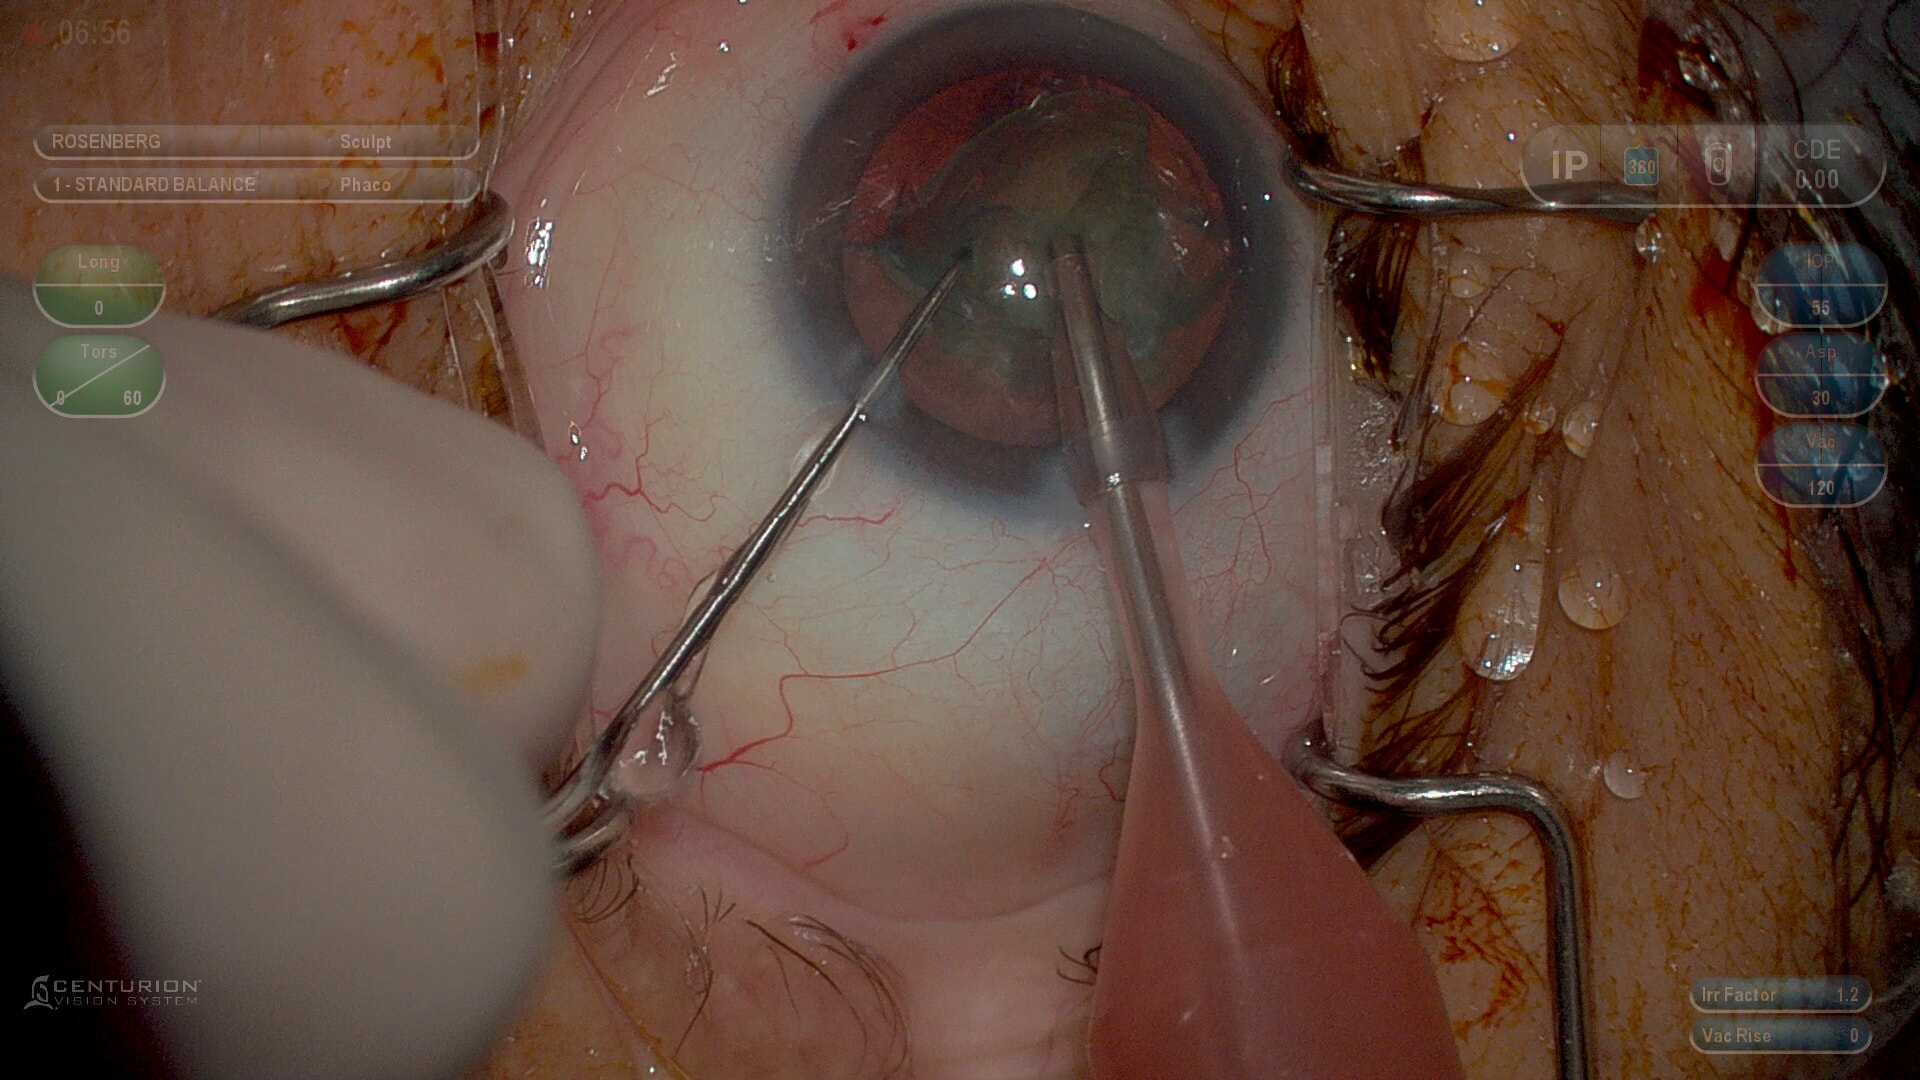iris: (793, 7, 1298, 500)
pupil: (842, 65, 1242, 446)
